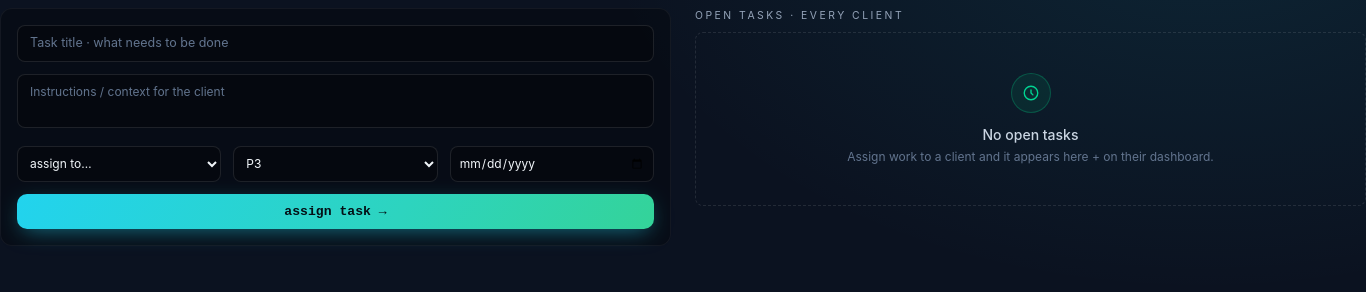
Test case: AdminTaskManage › assigns a trimmed task payload on submit
Expected: the text "No open tasks" is shown, [982,125,1078,145]
Type "  Rotate root CAs  " into the field with placeholder "Task title · what needs to be done" at (336, 43), box [17,25,654,62]
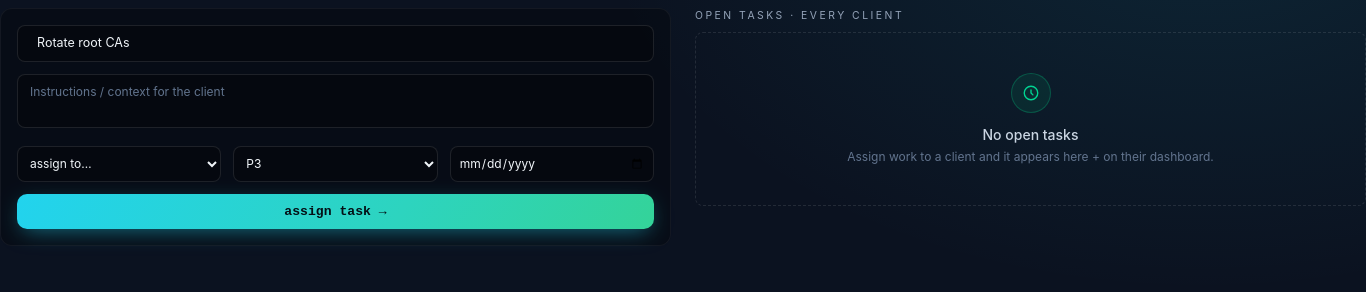
Select "edge-fw-01" in the 1st dropdown "assign to…" at (119, 164), box [17,146,221,182]
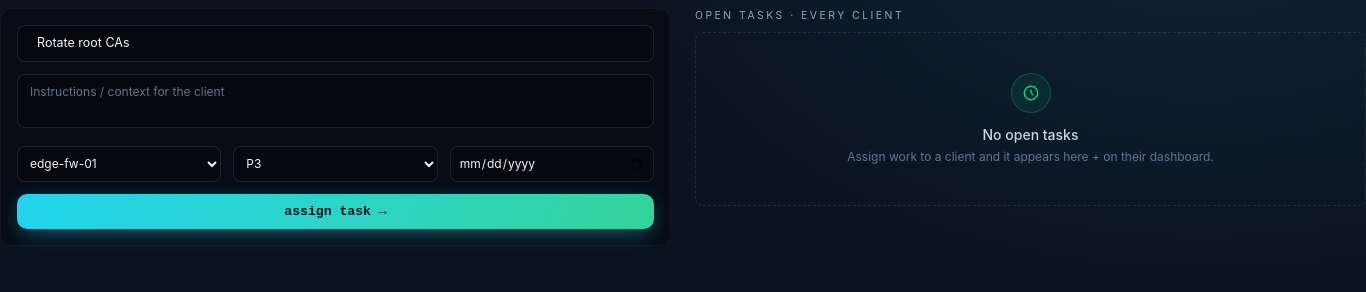
Select "P2" in the 2nd dropdown "P3" at (335, 164), box [233,146,438,182]
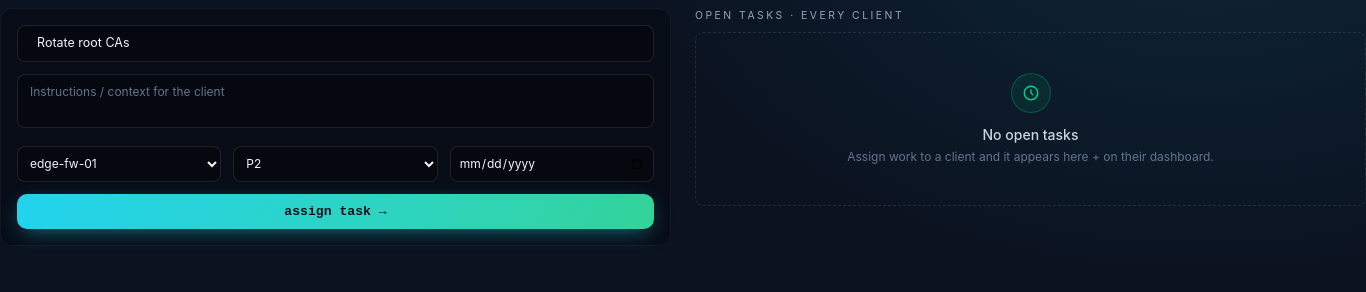
Click the button "assign task →" at (336, 212), box [17,194,654,230]
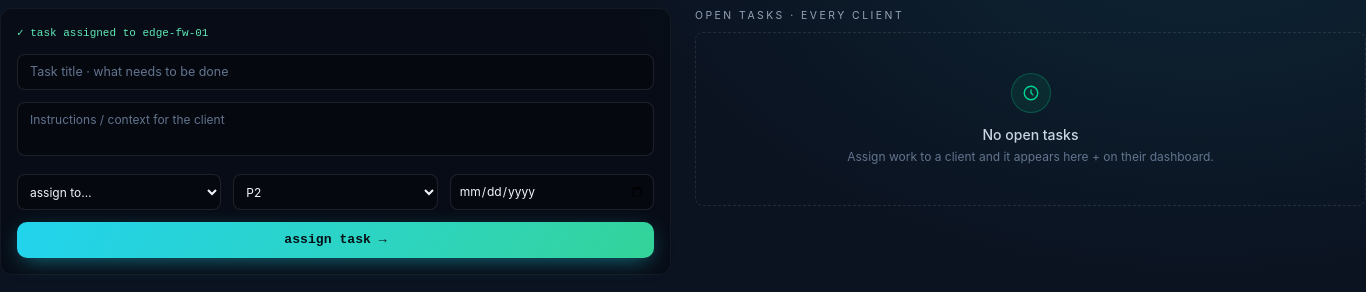
Expected: the text "✓ task assigned to edge-fw-01" is shown, [17,27,208,39]
